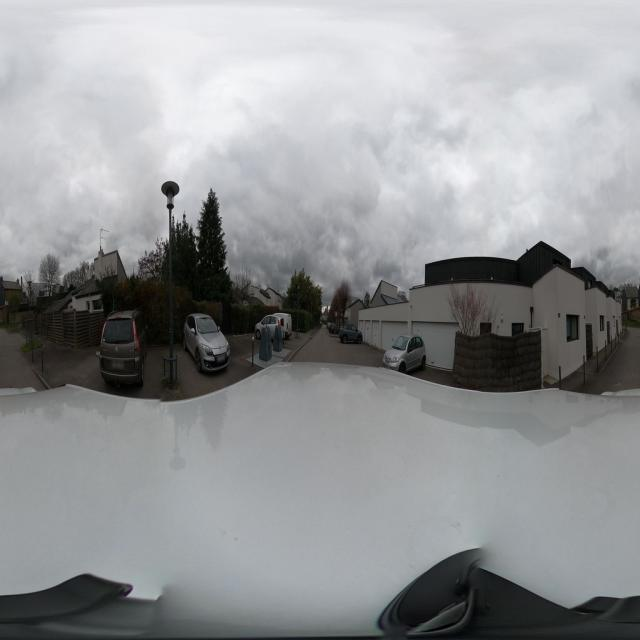car: (99, 310, 145, 391), (184, 313, 230, 374), (383, 333, 427, 373), (339, 322, 363, 344), (328, 321, 336, 333)
